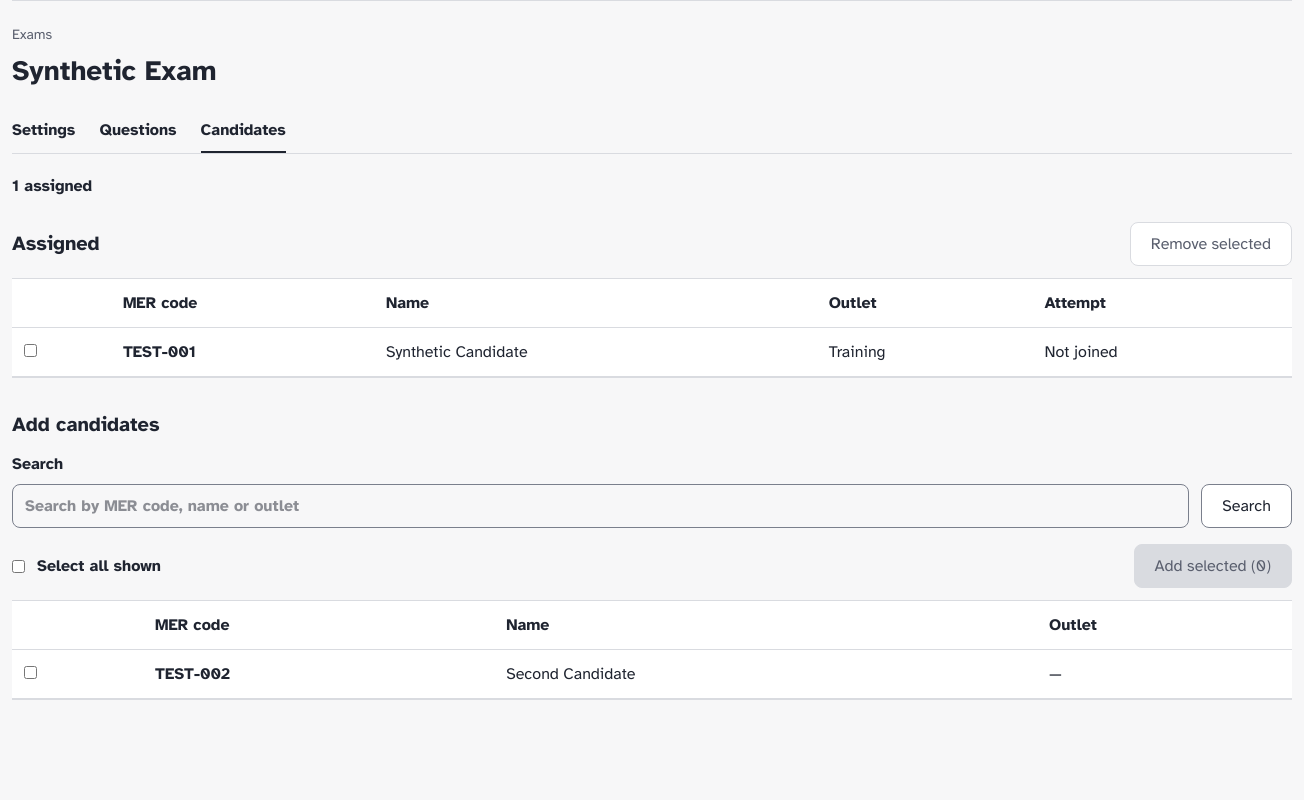
Test: ExamCandidates › shows the already-joined blocked message after an unassign response
Click the checkbox named "Select assigned TEST-001" at point(30, 350), box [24,344,37,357]
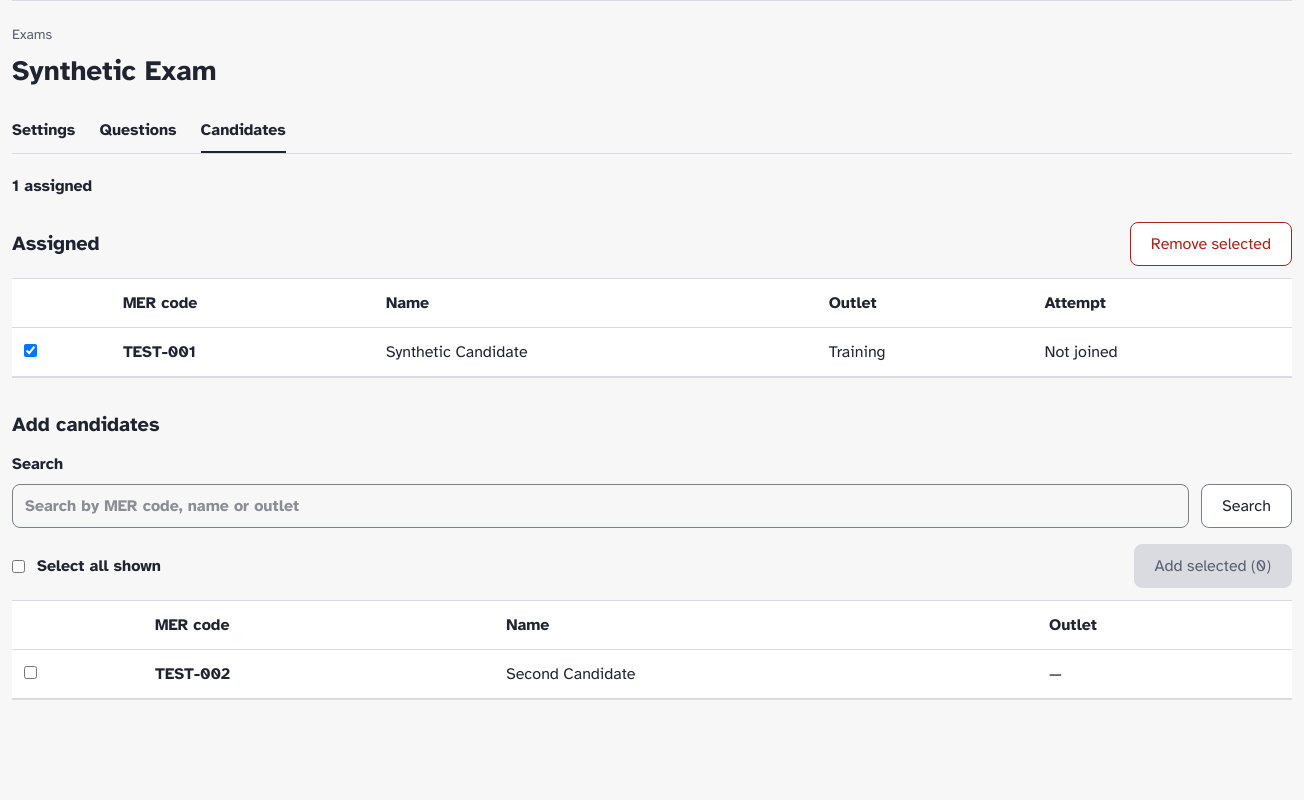
Click the button "Remove selected" at point(1211, 244), box [1130,222,1292,266]
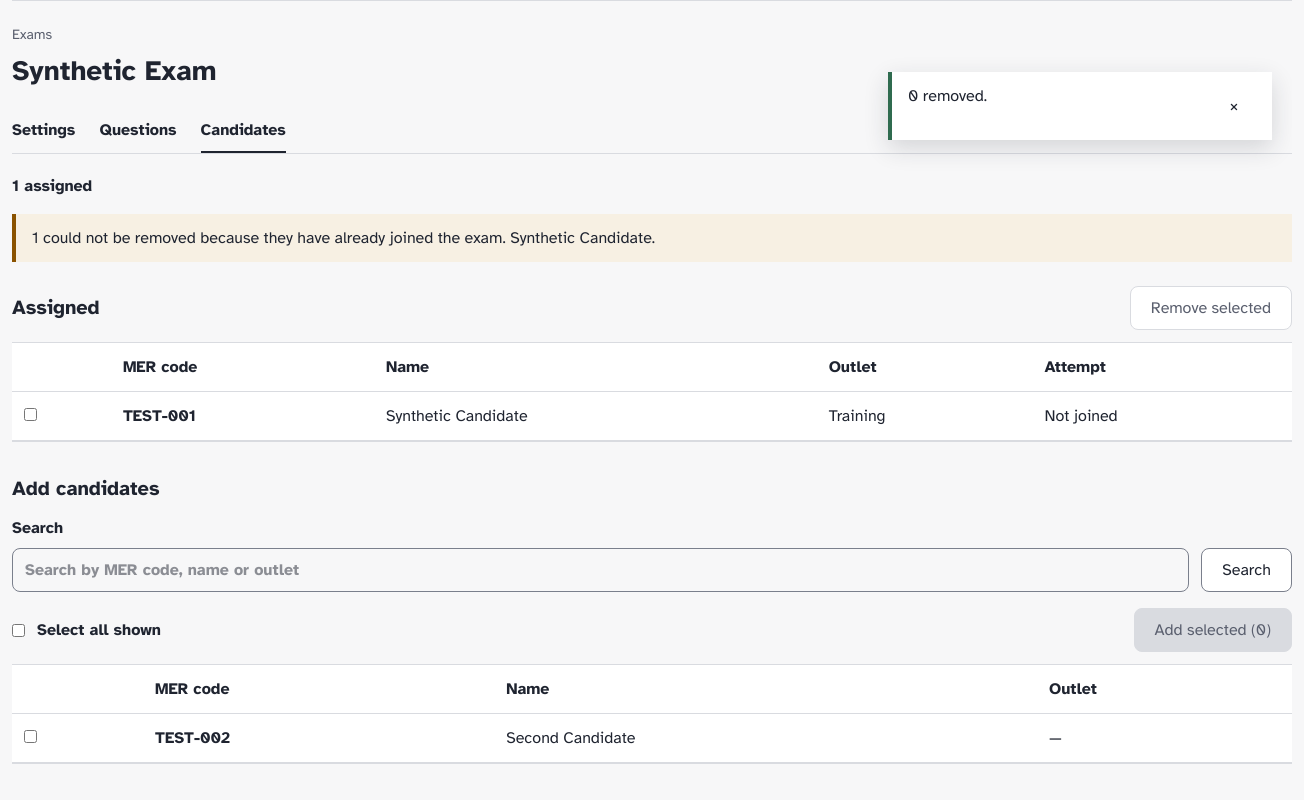
Now the text "could not be removed because they have already joined the exam" is shown, box [32,228,655,248]
